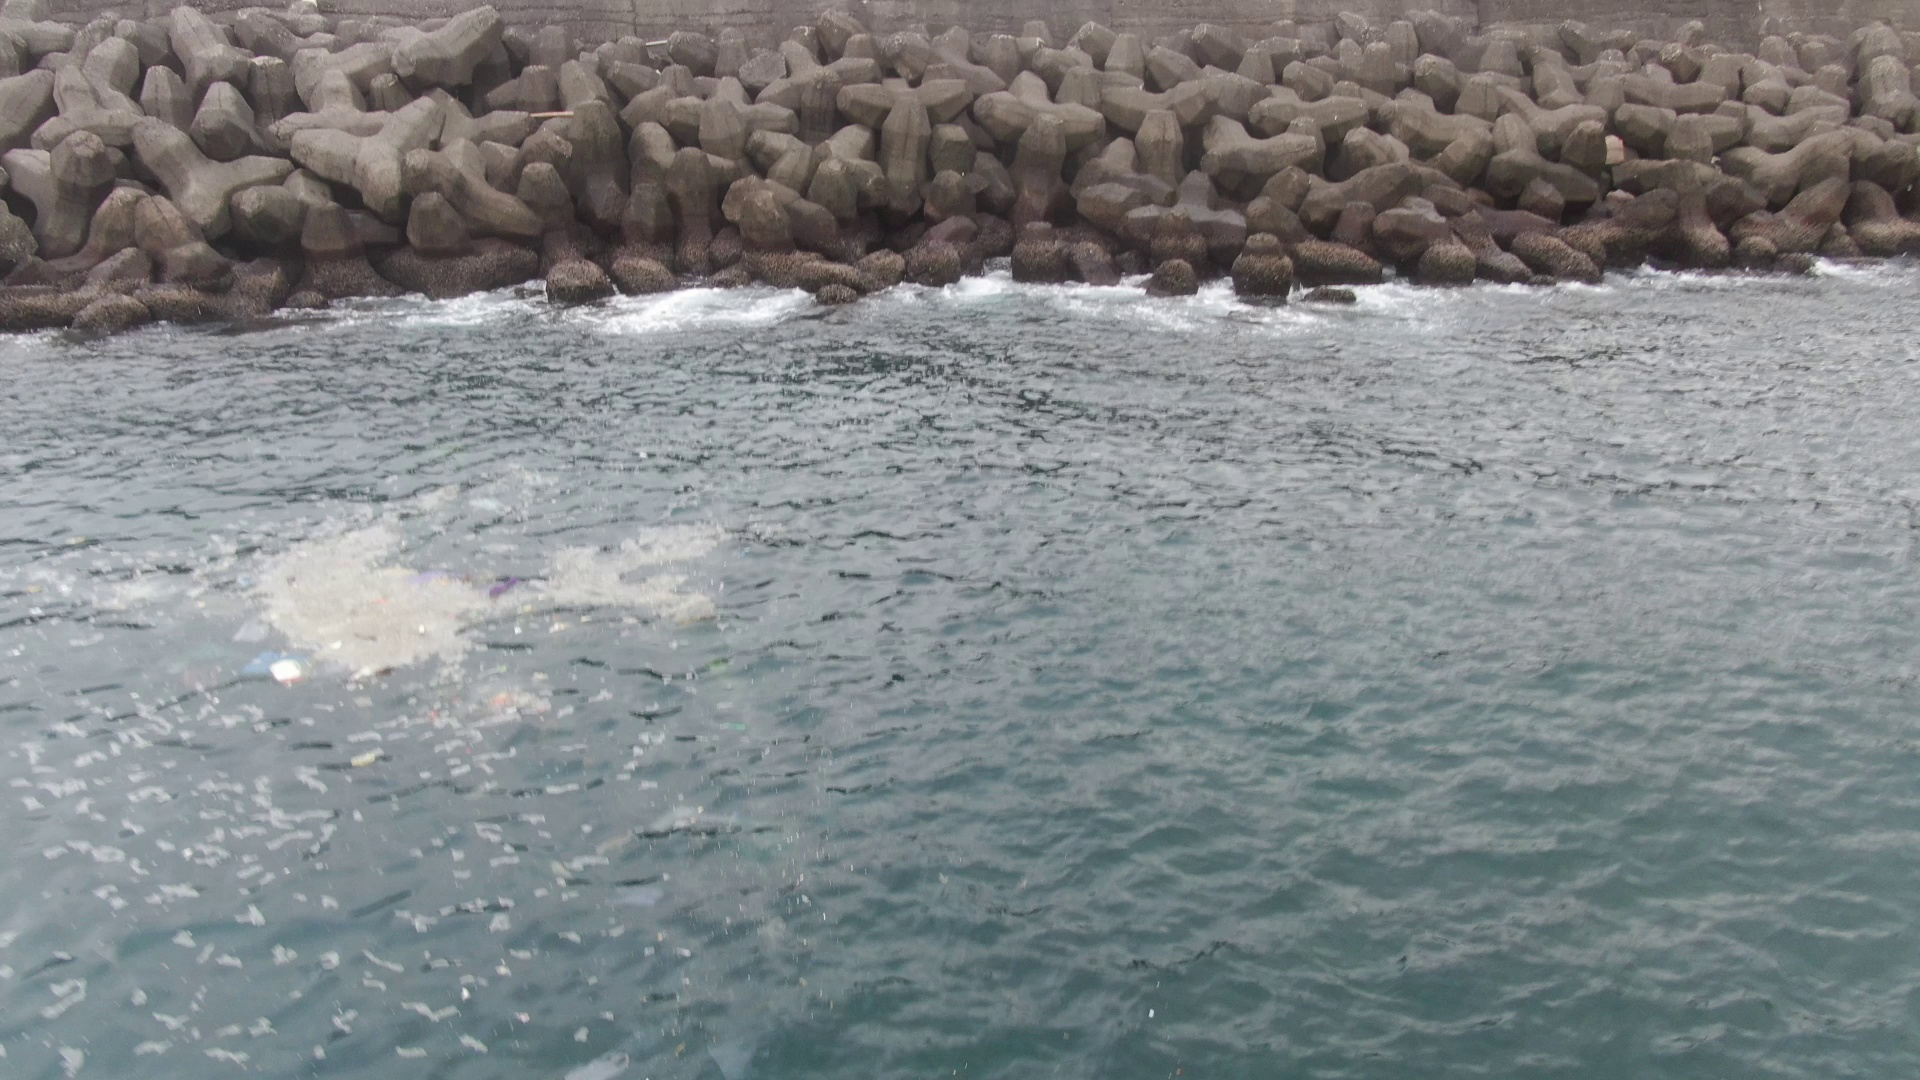garbage: (233, 510, 562, 752), (559, 1051, 641, 1077)
